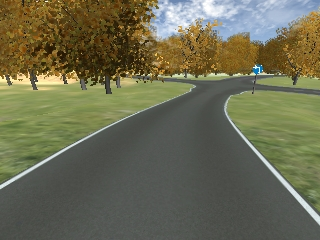left: (250, 64, 262, 73)
